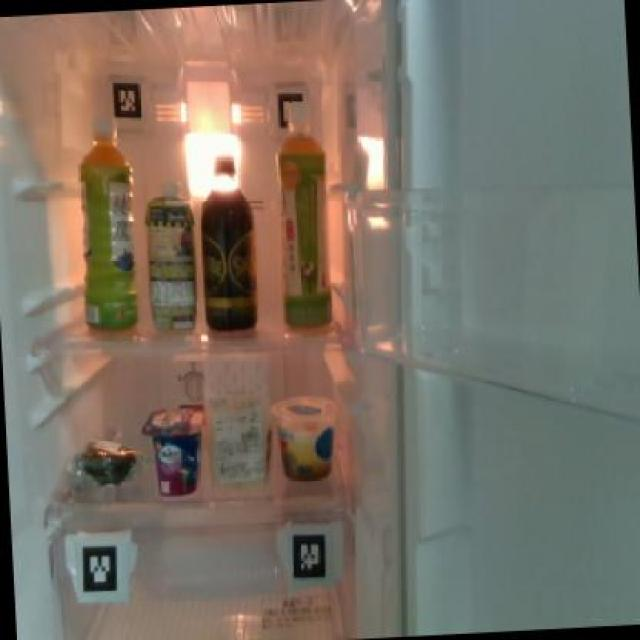coffee: (195, 149, 262, 334)
pudding: (270, 392, 339, 478)
rice_ball: (65, 429, 142, 493)
sandwich: (201, 351, 273, 491)
smoothie: (139, 173, 201, 335)
tea_a: (72, 112, 142, 336)
tea_i: (266, 127, 336, 336)
yogurt: (138, 403, 207, 497)
